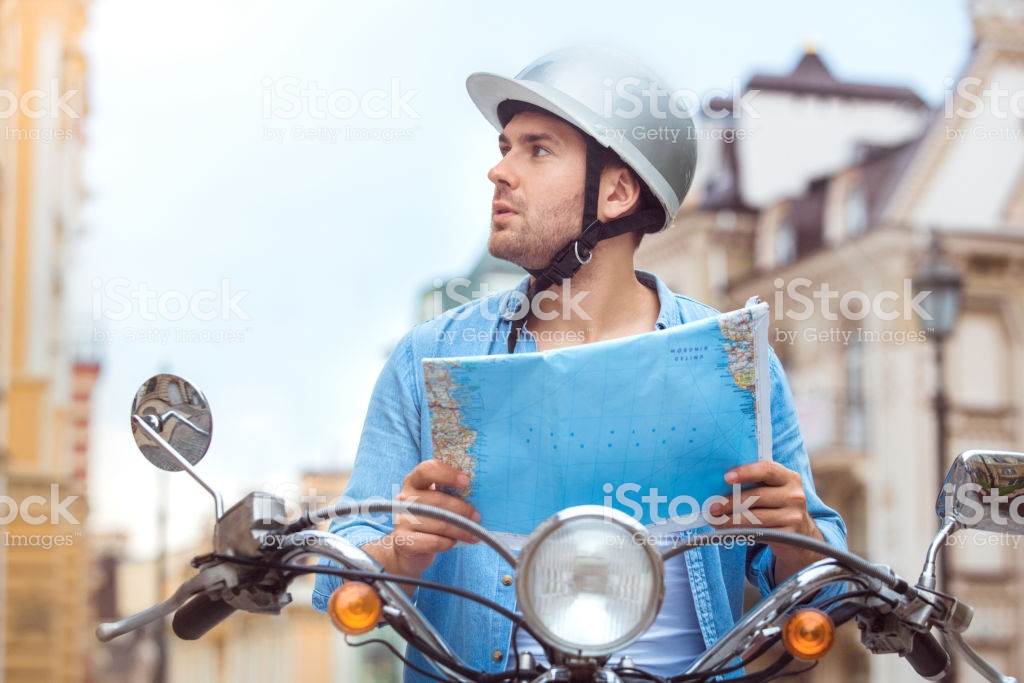helmet: (498, 30, 704, 235)
